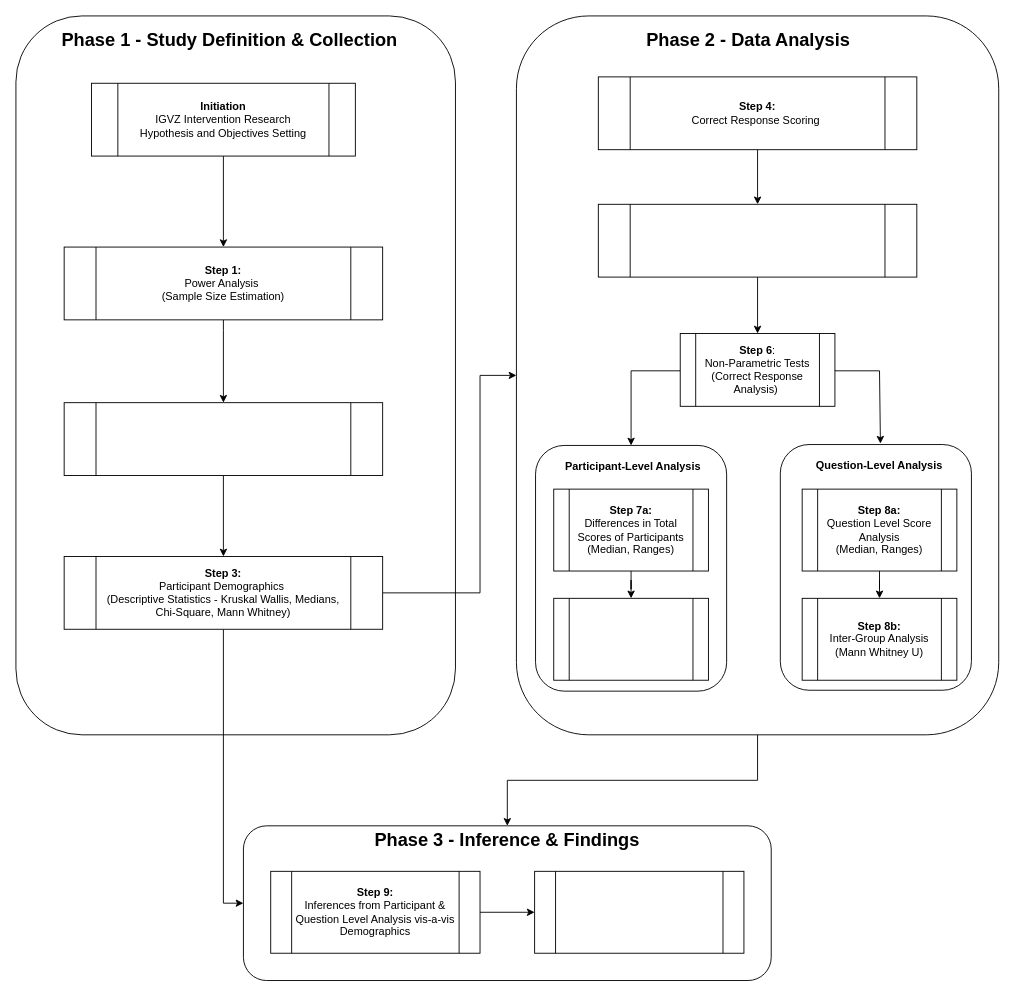
The diagram is 1015 pixels wide and 996 high, and some of its shapes have lost their labels. Each missing label, with the box of its shape:
Step 10: Summarization of findings: (534, 870, 744, 953)
Step 2: Data Collection (Pre-defined Knowledge Questionnaire): (63, 402, 383, 475)
Step 5: Distribution Analysis (Shapiro-Wilk Test for Residuals): (597, 203, 917, 277)
Step 7b: Inter-Group Analysis ( Mann Whitney U ): (553, 597, 708, 680)
